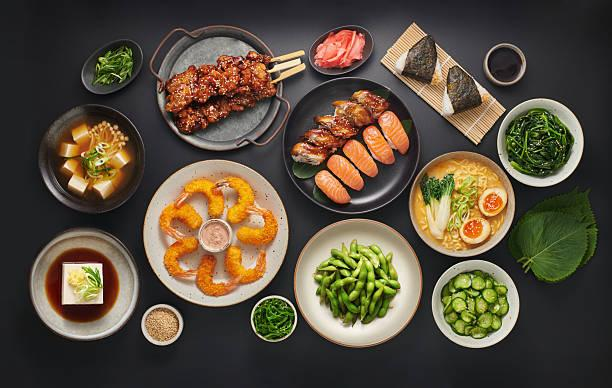Braised Crucian Carp: (142, 159, 287, 307), (281, 76, 418, 214), (151, 23, 287, 151), (291, 218, 422, 347), (379, 20, 505, 146), (29, 227, 139, 341), (38, 104, 144, 212), (409, 151, 515, 257), (496, 96, 584, 188), (431, 260, 521, 349)
